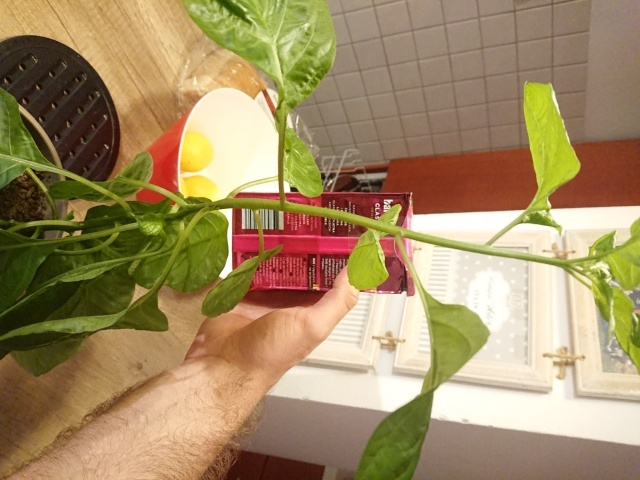Barcaffe Classic Original 225g: (228, 190, 417, 299)
